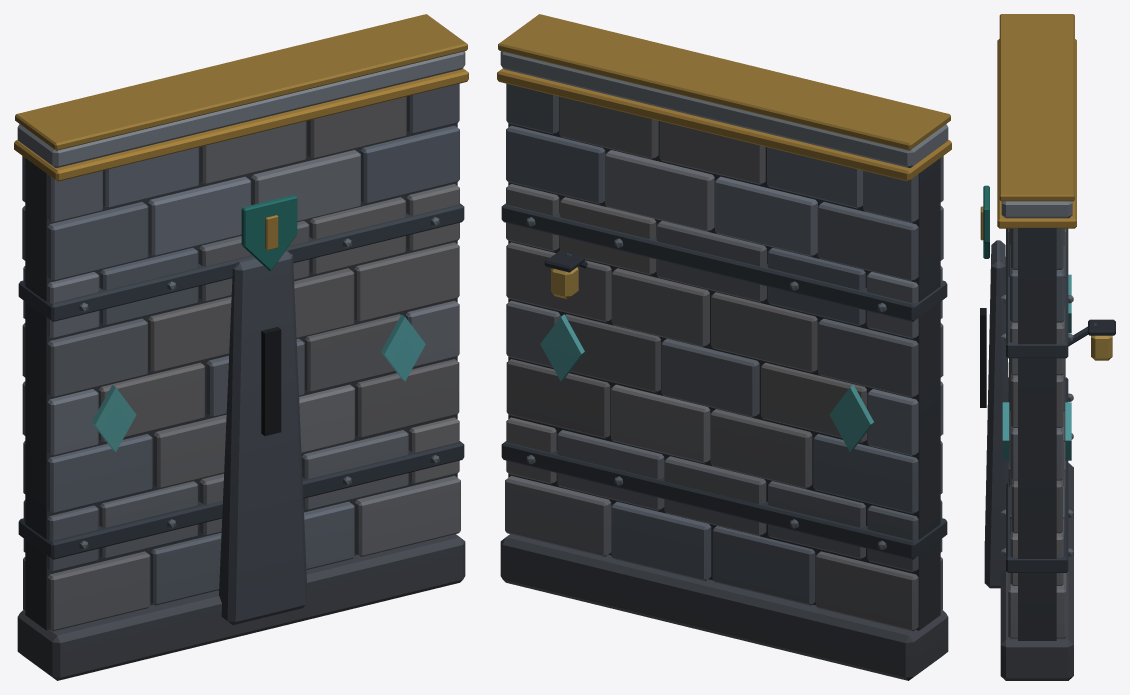
File: def_castlewall.glb
The picture shows the model from 3 angles, left to right: view 1: azimuth 30°, elevation 25°; view 2: azimuth 150°, elevation 25°; view 3: azimuth 270°, elevation 25°; orthographic projection. The views are drawn at different scales.
Visible parts, largest first — view 1: Base, Up2, Up3; view 2: Base, Up2, Up3; view 3: Base, Up2, Up3.
Boxes of the visible parts, x1=… form: Base: x1=15, y1=14, x2=467, y2=680; Up2: x1=18, y1=203, x2=464, y2=559; Up3: x1=14, y1=68, x2=468, y2=451; Base: x1=498, y1=14, x2=950, y2=680; Up2: x1=501, y1=203, x2=947, y2=559; Up3: x1=497, y1=68, x2=951, y2=451; Base: x1=980, y1=14, x2=1115, y2=680; Up2: x1=1000, y1=228, x2=1073, y2=572; Up3: x1=997, y1=39, x2=1076, y2=460.
Size of the model in its own units: 4 by 5 by 1.26.
